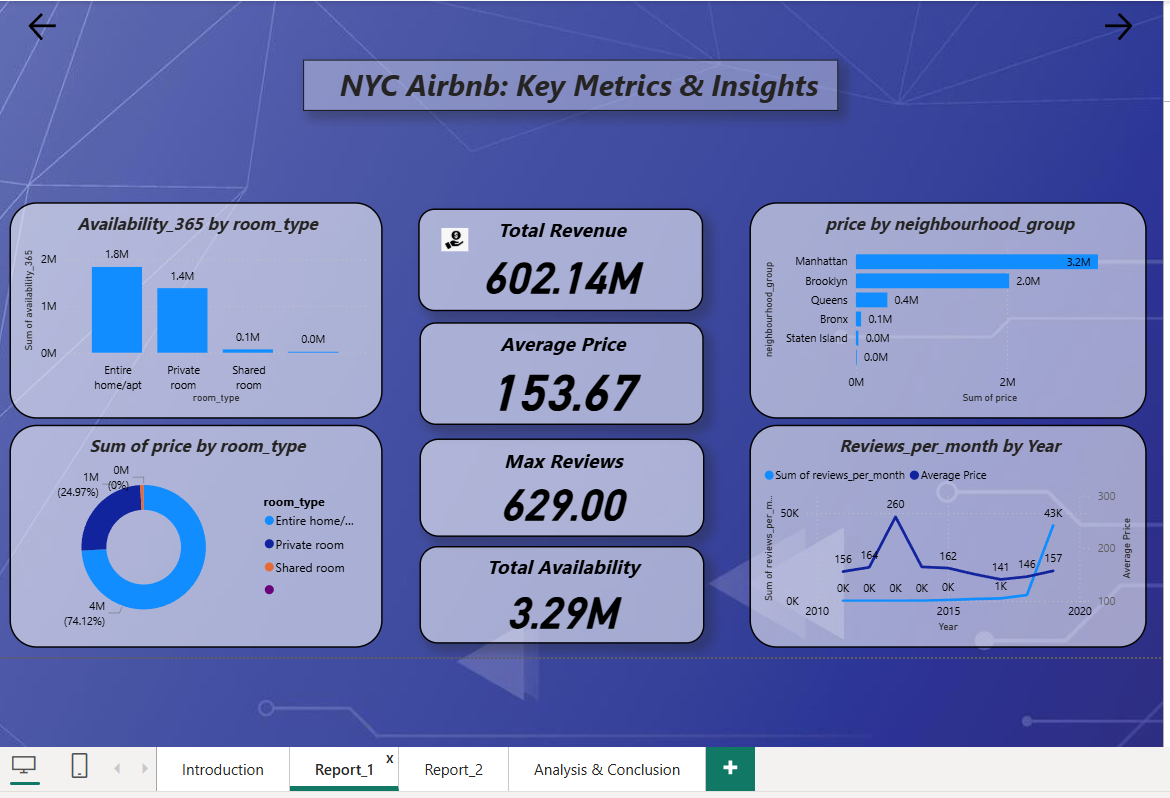

What the dashboard file says about the page in this screenshot:
{"tool":"powerbi","page":{"name":"Report_1","canvas":[1280,720],"ordinal":1},"visuals":[{"type":"card","title":"Max Reviews","fields":{"Values":["AB_NYC_2019.Max Reviews"]},"box":[463.9,480,312.5,108.4],"z":0},{"type":"card","title":"Total Availability","fields":{"Values":["AB_NYC_2019.Total Availability"]},"box":[463.9,598.2,312.5,107.5],"z":1000},{"type":"card","title":"Total Revenue","fields":{"Values":["AB_NYC_2019.Total Revenue"]},"box":[463,227.5,312.5,112.8],"z":2000},{"type":"clusteredBarChart","title":"price by neighbourhood_group","fields":{"Category":["AB_NYC_2019.neighbourhood_group"],"Y":["Sum(AB_NYC_2019.price)"]},"box":[826.6,220.3,436.1,237.3],"z":3000},{"type":"columnChart","title":" Availability_365 by room_type","fields":{"Category":["AB_NYC_2019.room_type"],"Y":["Sum(AB_NYC_2019.availability_365)"]},"box":[13.4,220.3,409.3,237.3],"z":4000},{"type":"lineChart","title":" Reviews_per_month by Year","fields":{"Category":["AB_NYC_2019.last_review.Variation.Date Hierarchy.Year","AB_NYC_2019.last_review.Variation.Date Hierarchy.Quarter","AB_NYC_2019.price"],"Y":["Sum(AB_NYC_2019.reviews_per_month)"],"Y2":["AB_NYC_2019.Average Price"]},"box":[826.6,465.7,436.1,244.5],"z":5000},{"type":"donutChart","fields":{"Category":["AB_NYC_2019.room_type","AB_NYC_2019.neighbourhood_group"],"Y":["Sum(AB_NYC_2019.price)"]},"box":[13.4,465.7,409.3,244.5],"z":6000},{"type":"actionButton","box":[0,8,100,40],"z":7000},{"type":"actionButton","box":[1180,8,100,40],"z":8000},{"type":"image","box":[482.7,238.2,39.4,45.7],"z":9000},{"type":"card","title":"Average Price","fields":{"Values":["AB_NYC_2019.Average Price"]},"box":[463.9,352.8,311.6,112.8],"z":10000},{"type":"textbox","box":[336.7,64.9,587.5,56],"z":11000}]}

Visuals, with their boxes on the page's 1280x720 design canvas (x1, y1, x2, y2). These are canvas units, not pixel positions in the 1170x798 screenshot, which may show the page scaled, cropped or inside an application window:
"Max Reviews" card: rect(464, 480, 776, 588)
"Total Availability" card: rect(464, 598, 776, 706)
"Total Revenue" card: rect(463, 228, 776, 340)
"price by neighbourhood_group" clusteredBarChart: rect(827, 220, 1263, 458)
" Availability_365 by room_type" columnChart: rect(13, 220, 423, 458)
" Reviews_per_month by Year" lineChart: rect(827, 466, 1263, 710)
donutChart - AB_NYC_2019.room_type x AB_NYC_2019.neighbourhood_group: rect(13, 466, 423, 710)
actionButton: rect(0, 8, 100, 48)
actionButton: rect(1180, 8, 1280, 48)
image: rect(483, 238, 522, 284)
"Average Price" card: rect(464, 353, 776, 466)
textbox: rect(337, 65, 924, 121)
